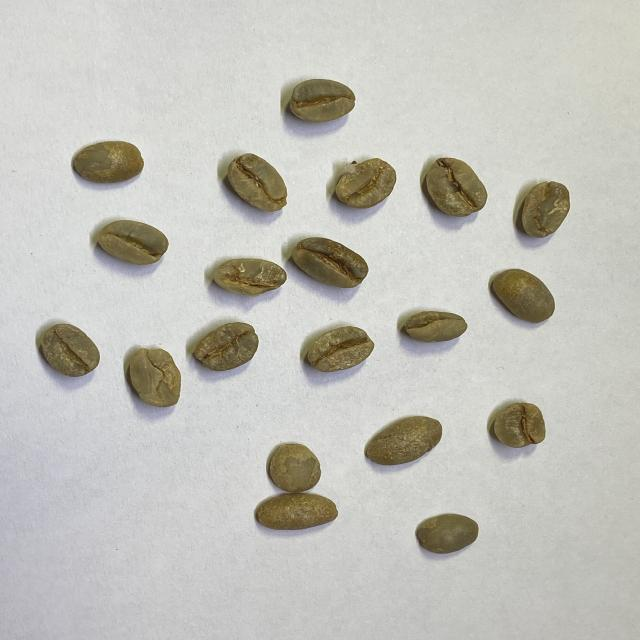bad: (425, 156, 489, 220), (292, 236, 368, 289), (128, 346, 183, 409), (334, 156, 397, 209), (194, 320, 259, 371), (518, 180, 571, 238), (212, 256, 286, 297), (493, 401, 546, 448)
good: (362, 415, 443, 468), (226, 153, 289, 217), (491, 268, 557, 324), (37, 322, 101, 378), (97, 219, 169, 268), (72, 140, 145, 186), (254, 492, 339, 531), (286, 78, 356, 125), (307, 326, 374, 370), (266, 441, 322, 493), (416, 512, 480, 555), (404, 310, 467, 344)
